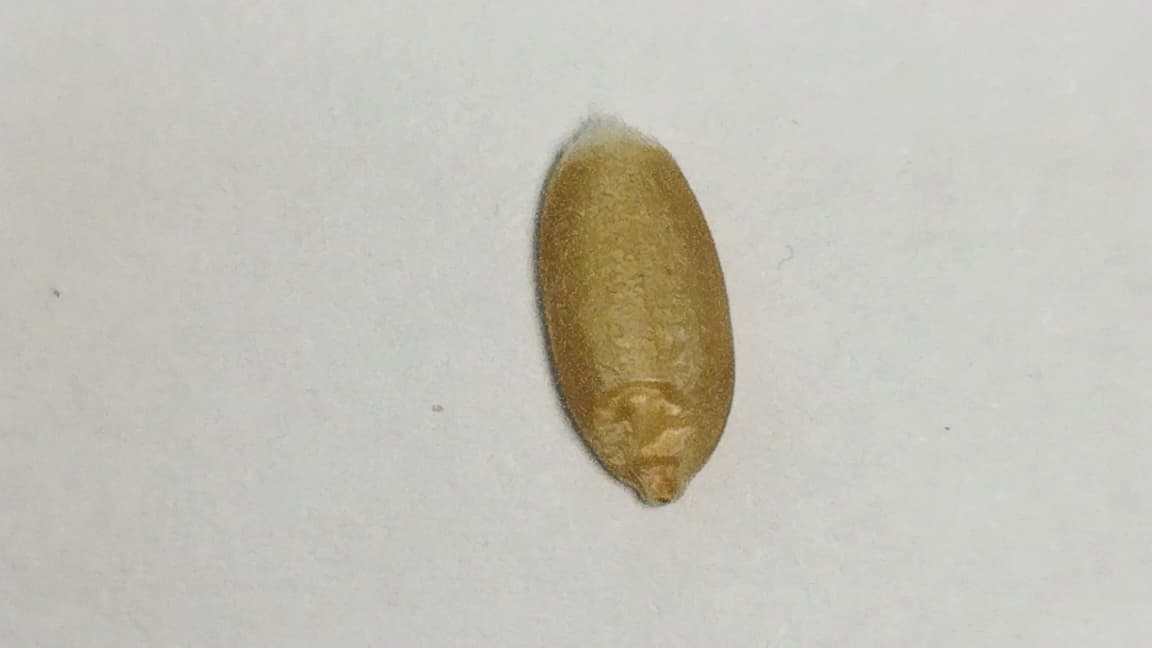healthy: (534, 117, 735, 504)
